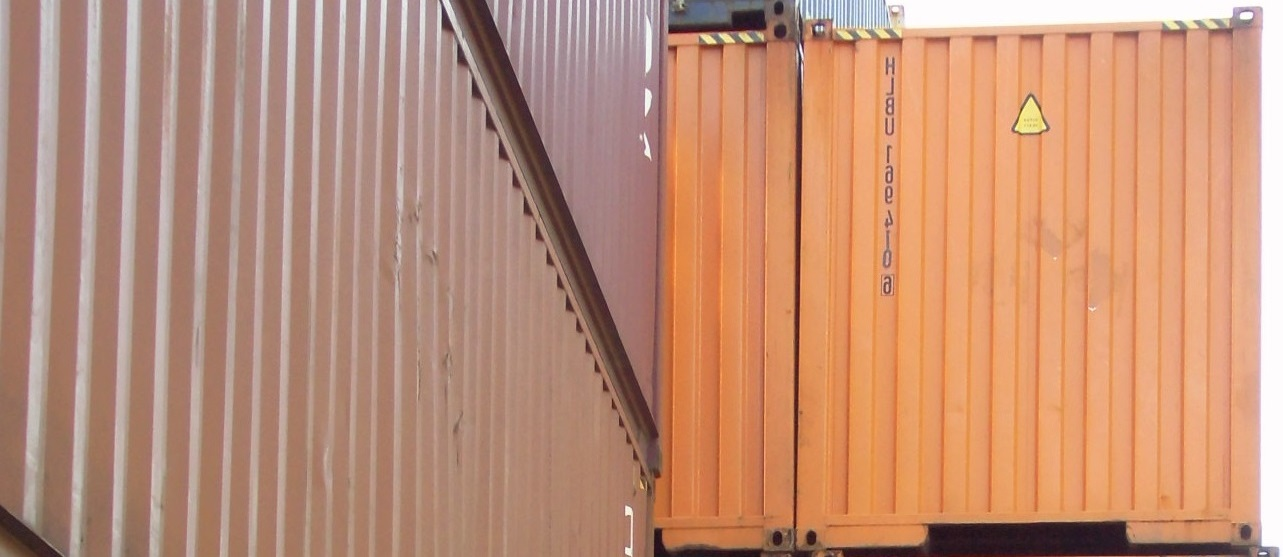container_door: (811, 16, 1260, 554)
